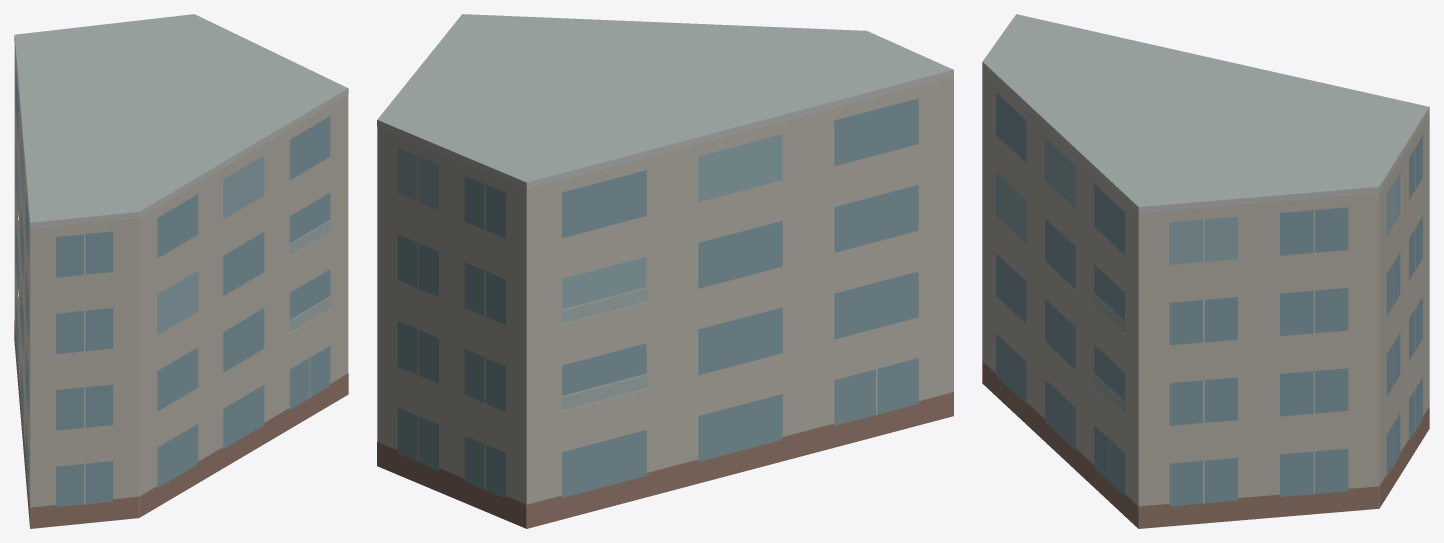
Rendered from survey-upis-33003545.glb.
3 renders of one model, left to right at view 1: azimuth 30°, elevation 25°; view 2: azimuth 150°, elevation 25°; view 3: azimuth 270°, elevation 25°, orthographic. The views are drawn at different scales.
Visible parts, largest first — view 1: survey-upis-33003545.tmp; view 2: survey-upis-33003545.tmp; view 3: survey-upis-33003545.tmp.
Part boxes in pixels (left/top/right/bottom): survey-upis-33003545.tmp: left=14, top=14, right=348, bottom=528; survey-upis-33003545.tmp: left=377, top=14, right=953, bottom=528; survey-upis-33003545.tmp: left=982, top=14, right=1429, bottom=528.
Bounding box in the file's own units: 15.71 × 12.2 × 15.37.
